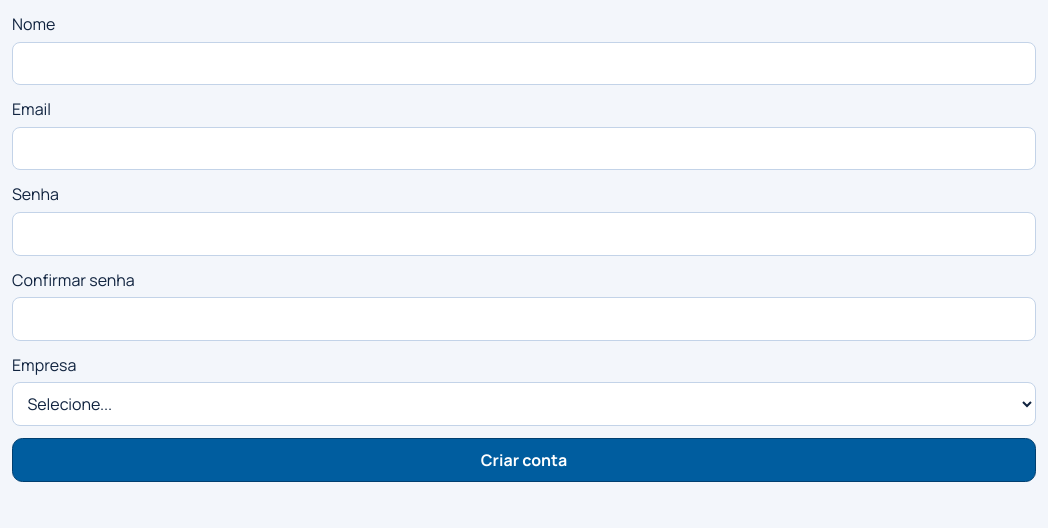
RegisterForm › validates that empresaId must be one of fetched options
The image size is (1048, 528).
Type "Ana" into the field labelled "Nome" at (524, 63), box left=12, top=42, right=1036, bottom=85
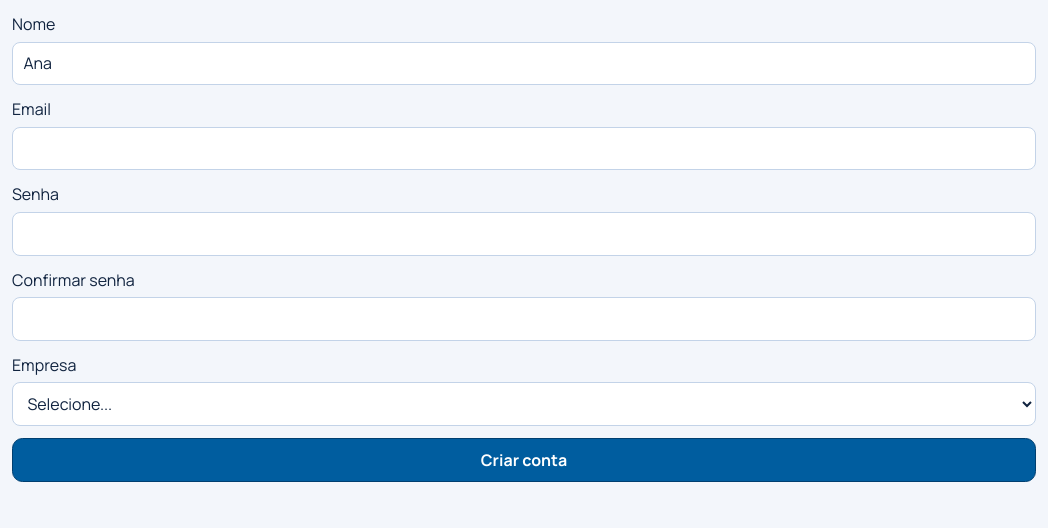
Type "ana@example.com" into the field labelled "Email" at (524, 149), box left=12, top=127, right=1036, bottom=170
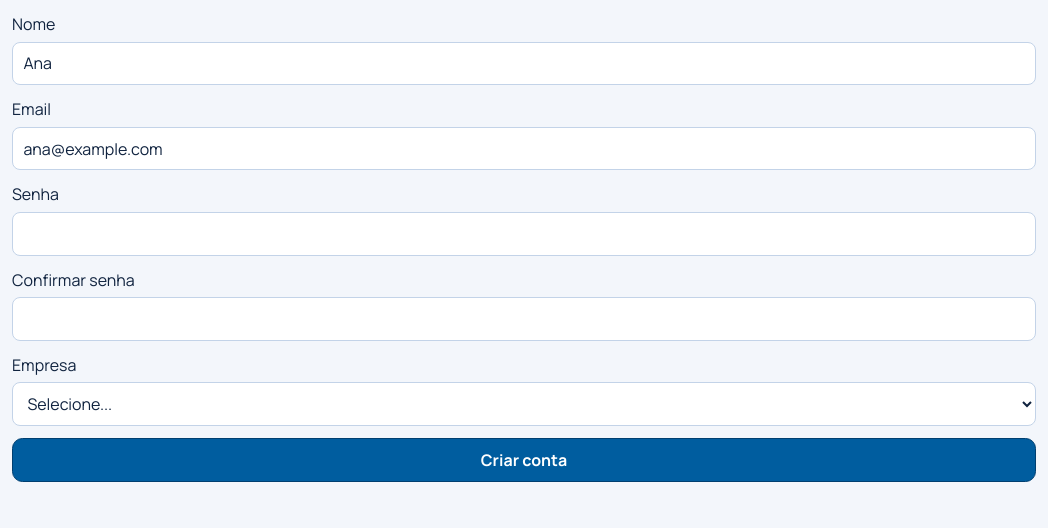
Type "super-secret" into the password field labelled "Senha" at (524, 234), box left=12, top=212, right=1036, bottom=256
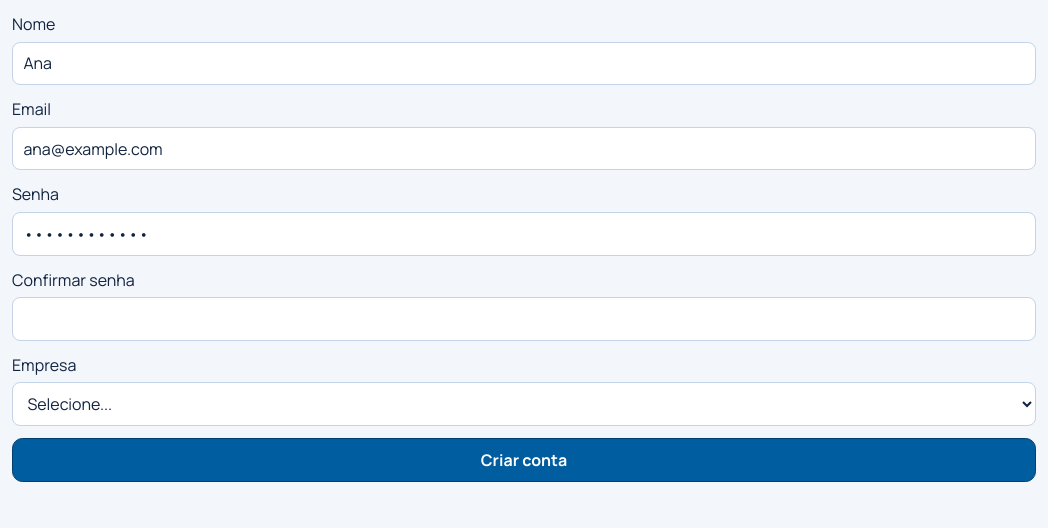
Type "super-secret" into the password field labelled "Confirmar senha" at (524, 319), box left=12, top=297, right=1036, bottom=341
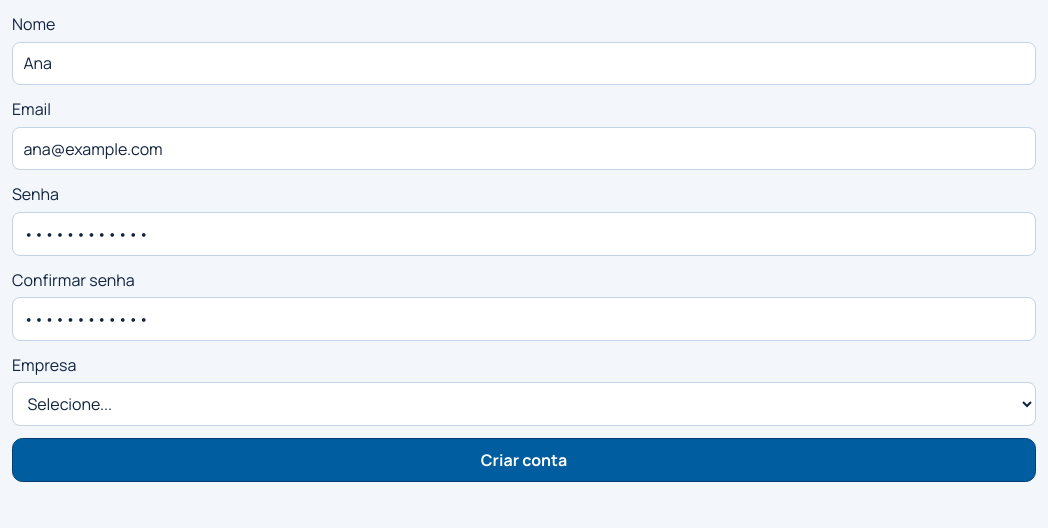
Select "33333333-3333-3333-3333-333333333333" in the dropdown labelled "Empresa" at (524, 404), box left=12, top=382, right=1036, bottom=426
Click the button "Criar conta" at (524, 460), box left=12, top=438, right=1036, bottom=482
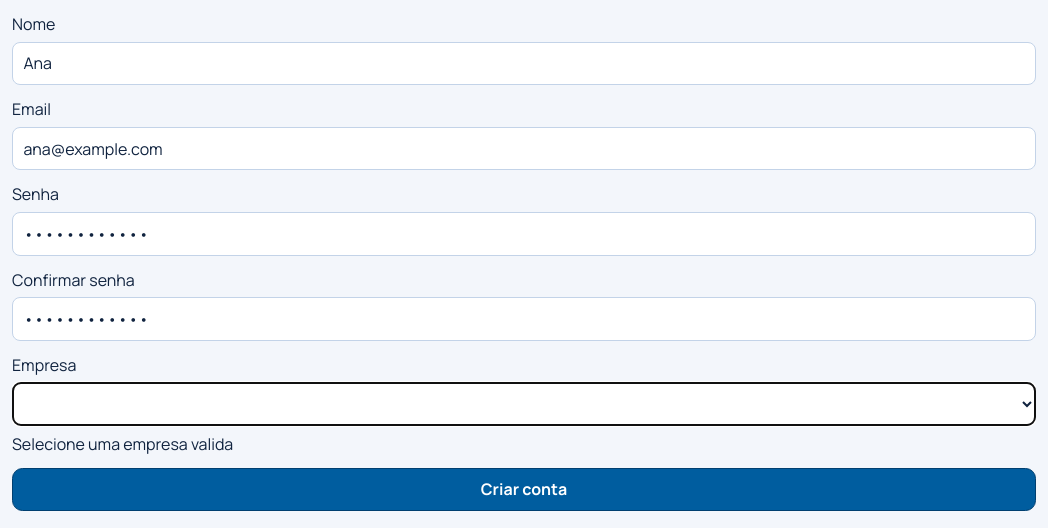
Check: the text "Selecione uma empresa valida" is shown, box left=12, top=432, right=233, bottom=454
